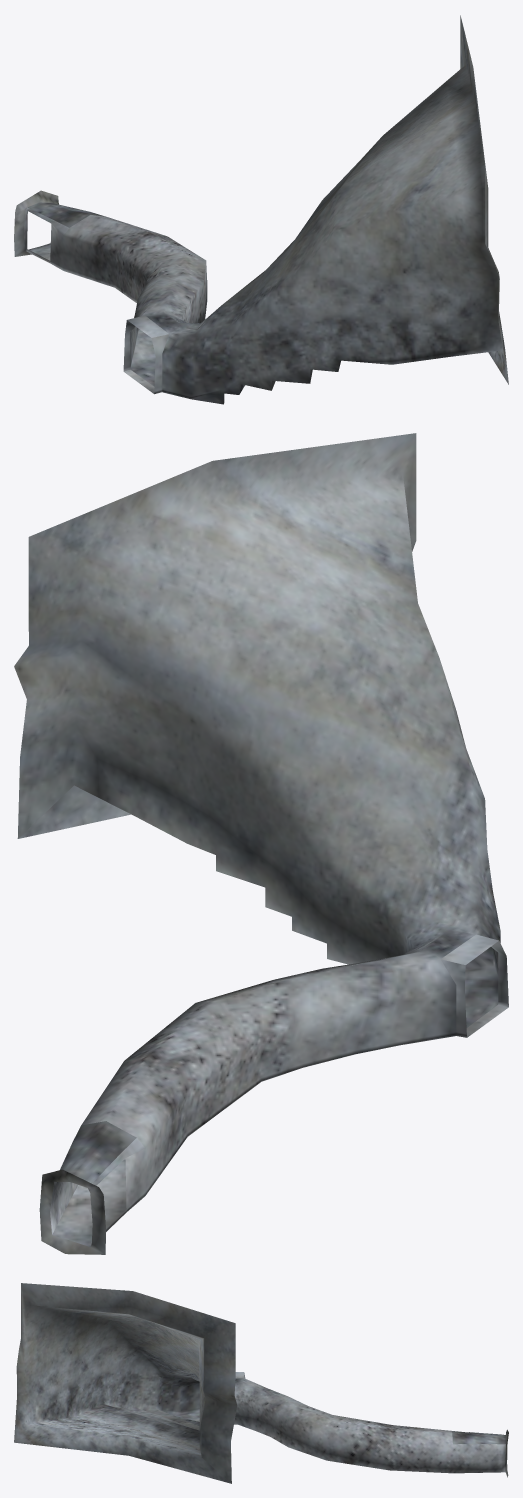
File: TunnelToCity_Concrete.fbx
3 renders of one model, top to bottom at view 1: azimuth 30°, elevation 25°; view 2: azimuth 150°, elevation 25°; view 3: azimuth 270°, elevation 25°, orthographic. The views are drawn at different scales.
Parts seen in each view (by area): view 1: TunnelToCity_Concrete; view 2: TunnelToCity_Concrete; view 3: TunnelToCity_Concrete.
Boxes of the visible parts, x1,y1,x2,y2 form: TunnelToCity_Concrete: [14, 15, 508, 404]; TunnelToCity_Concrete: [14, 433, 508, 1254]; TunnelToCity_Concrete: [14, 1283, 508, 1483].
Size of the model in its own units: 1170 by 1131 by 2123.
